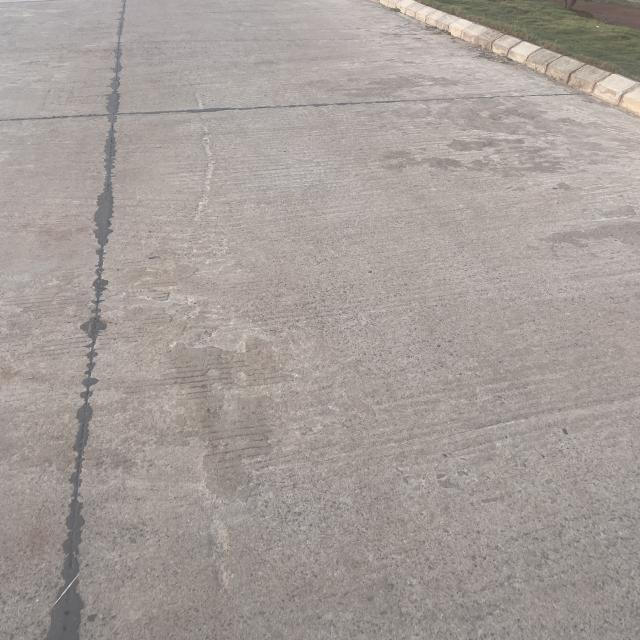D43: (26, 29, 175, 640)
